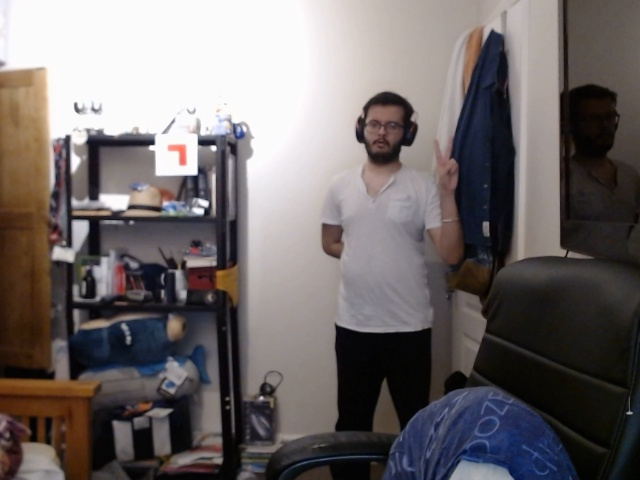Peace: (425, 130, 468, 201)
